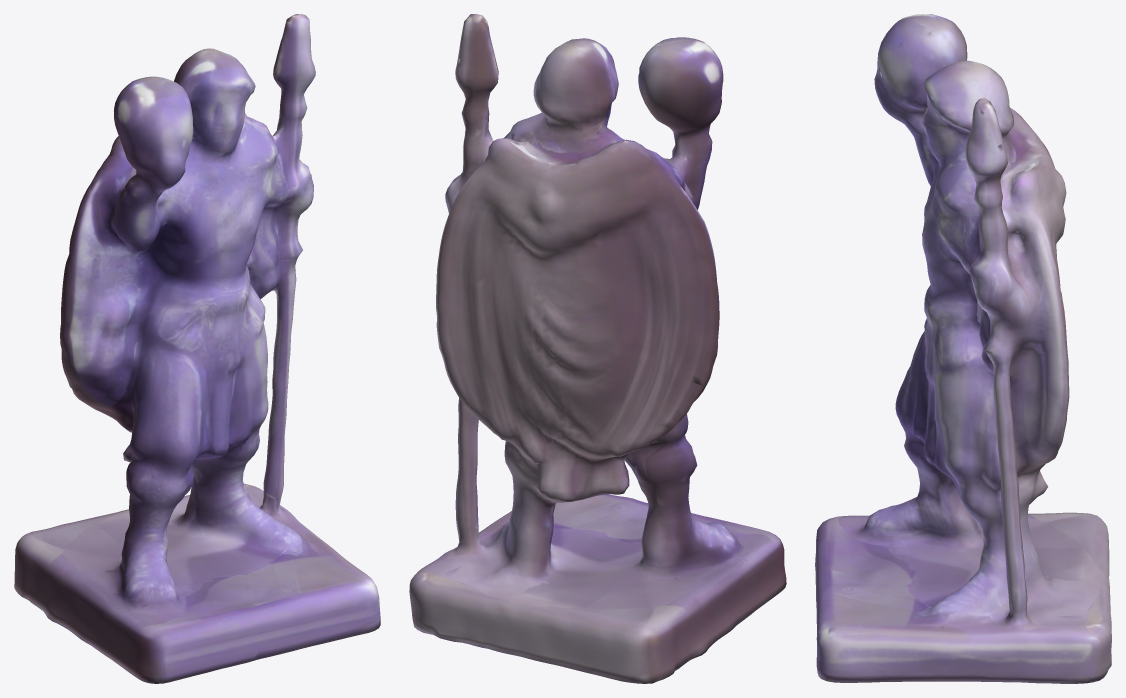
The model's file is mage.glb.
3 renders of one model, left to right at view 1: azimuth 30°, elevation 25°; view 2: azimuth 150°, elevation 25°; view 3: azimuth 270°, elevation 25°, orthographic. The views are drawn at different scales.
Parts seen in each view (by area): view 1: Mesh_0; view 2: Mesh_0; view 3: Mesh_0.
Part boxes in pixels (box(x1,y1,x2,y2)): Mesh_0: box(14, 14, 380, 683); Mesh_0: box(409, 14, 786, 683); Mesh_0: box(815, 14, 1111, 683).
Bounding box in the file's own units: 0.9633 × 2 × 0.9306.
1 material, 1 textured.
